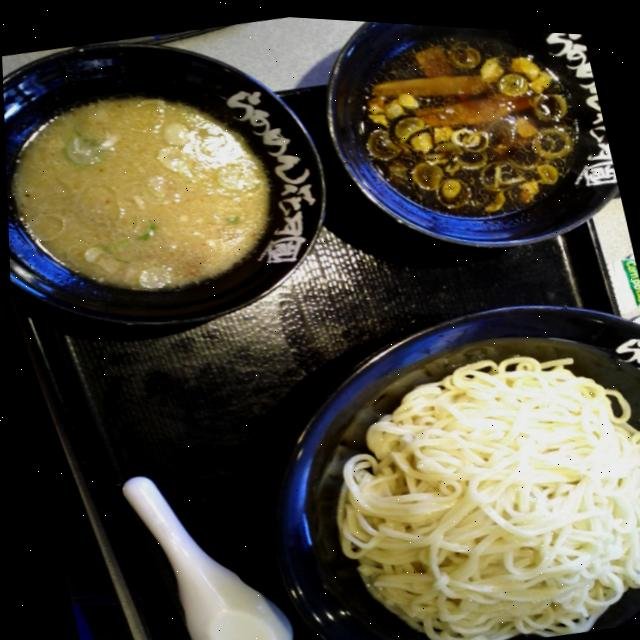面条主食: (235, 261, 640, 640)
